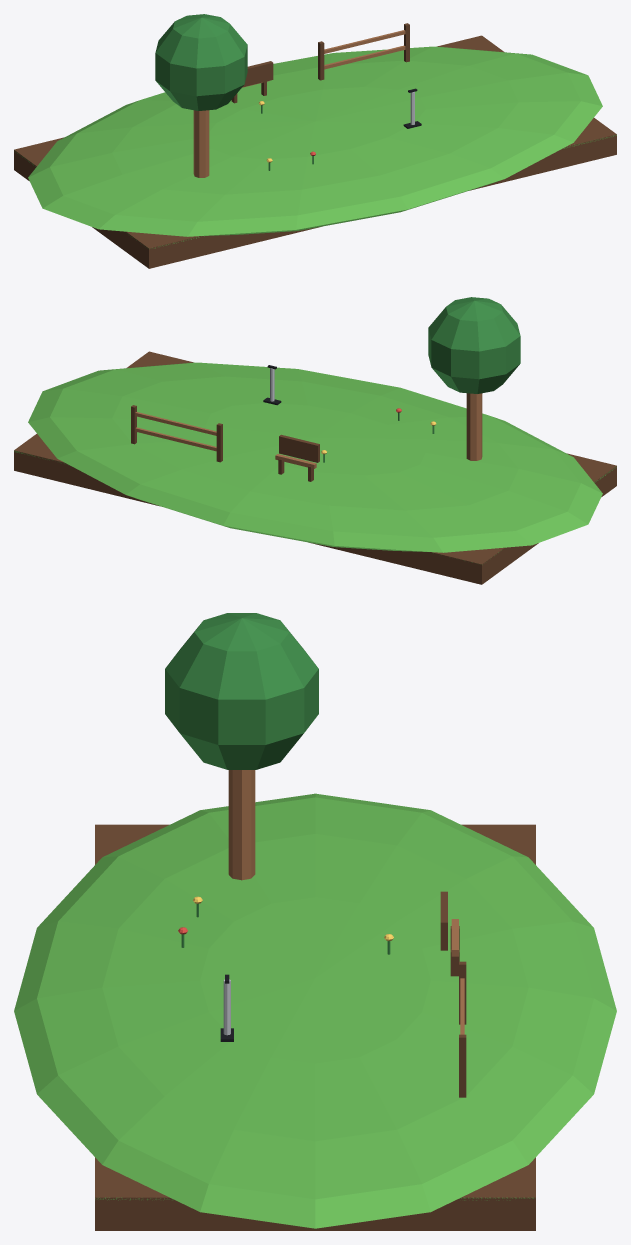
The model's file is site_bottles.glb.
The picture shows the model from 3 angles, top to bottom: view 1: azimuth 30°, elevation 25°; view 2: azimuth 150°, elevation 25°; view 3: azimuth 270°, elevation 25°; orthographic projection. The views are drawn at different scales.
Visible parts, largest first — view 1: site_bottles; view 2: site_bottles; view 3: site_bottles.
Part boxes in pixels (box(x1,y1,x2,y2)): site_bottles: box(14, 14, 616, 268); site_bottles: box(14, 297, 616, 584); site_bottles: box(14, 613, 616, 1230).
Bounding box in the file's own units: 14 × 4.77 × 8.2.
